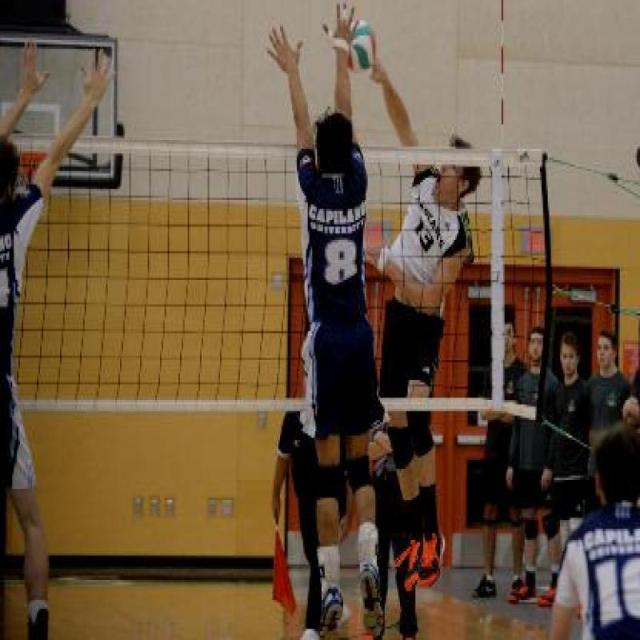volleyball: (348, 18, 377, 74)
